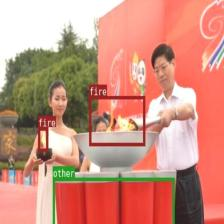fire: (88, 96, 144, 146), (38, 127, 48, 151)
